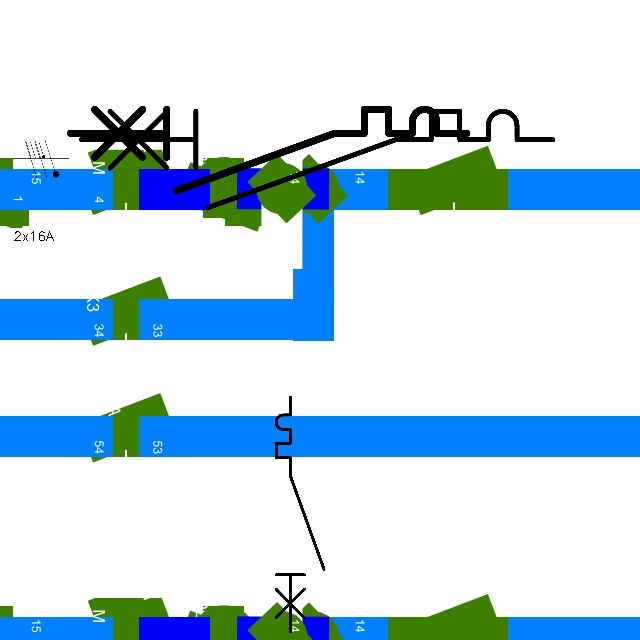interruptor_termomagnetico: (69, 99, 565, 220), (60, 99, 477, 201), (270, 391, 330, 638)
